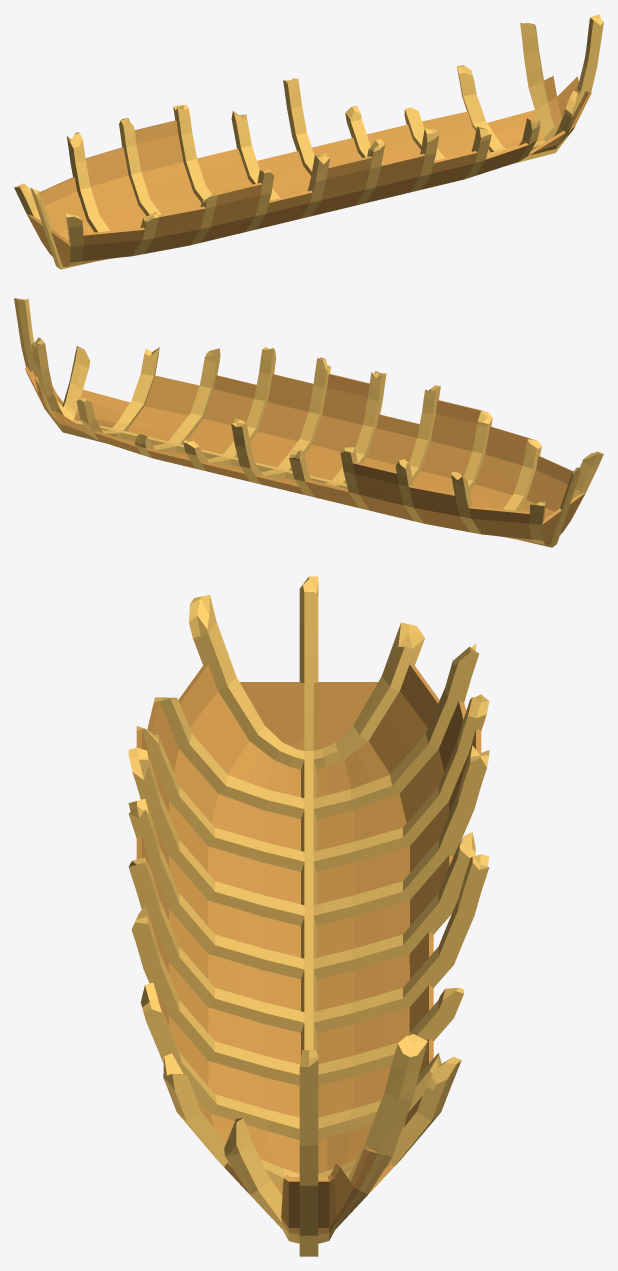
File: Ship skeleton.fbx
3 renders of one model, top to bottom at view 1: azimuth 30°, elevation 25°; view 2: azimuth 150°, elevation 25°; view 3: azimuth 270°, elevation 25°, orthographic. The views are drawn at different scales.
Parts seen in each view (by area): view 1: Cube, Cube.002; view 2: Cube, Cube.002; view 3: Cube.002, Cube.
Boxes of the visible parts, box(x1,y1,x2,y2) form: Cube: box(27, 76, 591, 266); Cube.002: box(14, 14, 603, 269); Cube: box(25, 367, 585, 544); Cube.002: box(14, 298, 603, 547); Cube.002: box(128, 576, 489, 1256); Cube: box(136, 664, 481, 1234).
Size of the model in its own units: 223 by 46.41 by 61.86.
